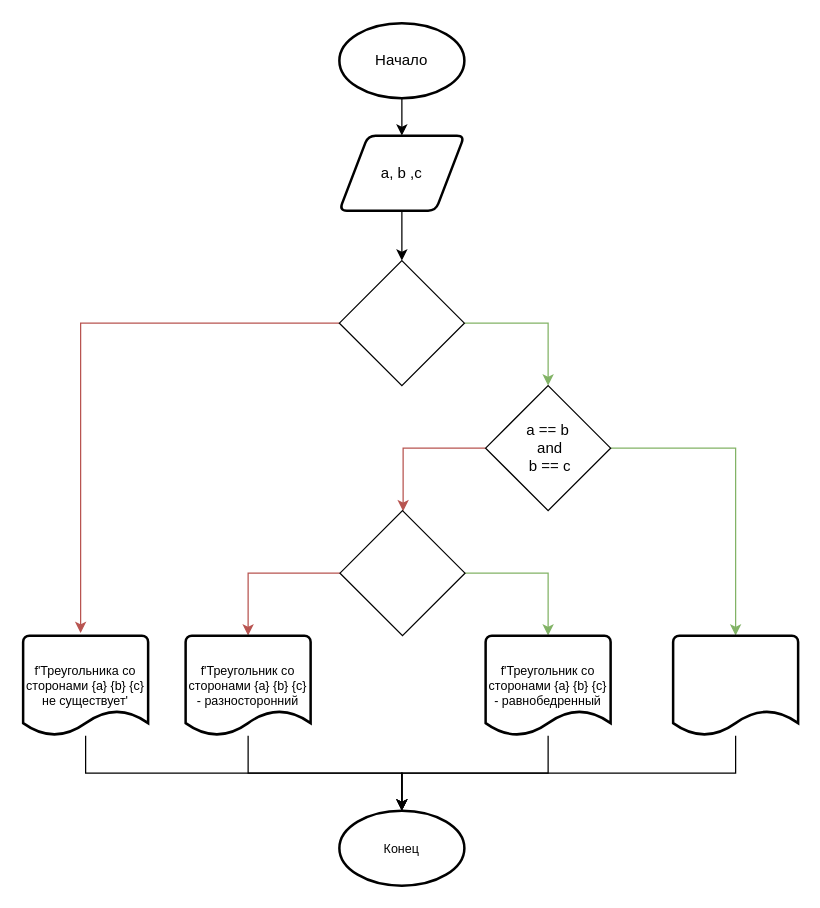
This 820x908 diagram has some shape labels left out. Here are the shapes that lost their labels. From the top down, the centre of each, then its label:
the point at 401,322: a < b + c and b < a + c and c < a + b
the point at 402,572: a == b or b == c or c == a
the point at 735,685: f'Треугольник со сторонами {a} {b} {c} - равносторонний
